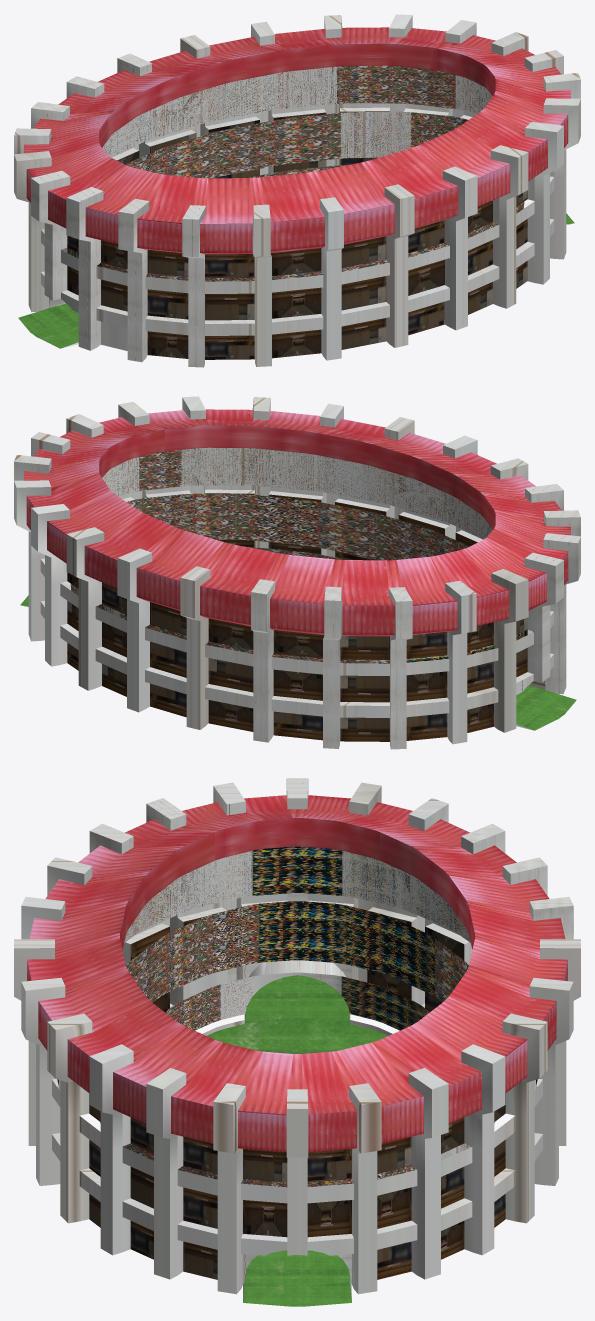
Rendered from estadio.obj.
3 renders of one model, top to bottom at view 1: azimuth 30°, elevation 25°; view 2: azimuth 150°, elevation 25°; view 3: azimuth 270°, elevation 25°, orthographic. The views are drawn at different scales.
Parts seen in each view (by area): view 1: Mesh; view 2: Mesh; view 3: Mesh.
Boxes of the visible parts, x1,y1,x2,y2 form: Mesh: (14,14,580,367); Mesh: (14,396,580,749); Mesh: (14,778,580,1306).
Size of the model in its own units: 229 by 66.1 by 165.
